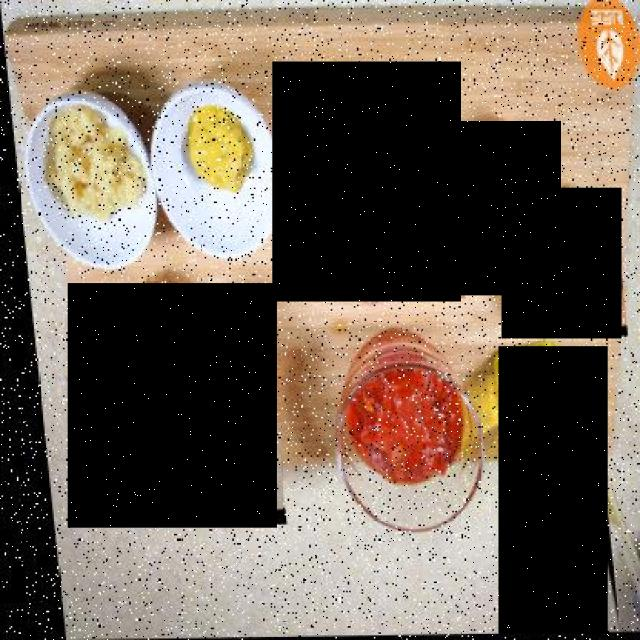Bread: (68, 283, 278, 528)
Egg: (437, 120, 560, 295)
Ham: (273, 61, 461, 302)
Olive_Oil: (498, 346, 608, 634)
Onion: (501, 187, 622, 339)
